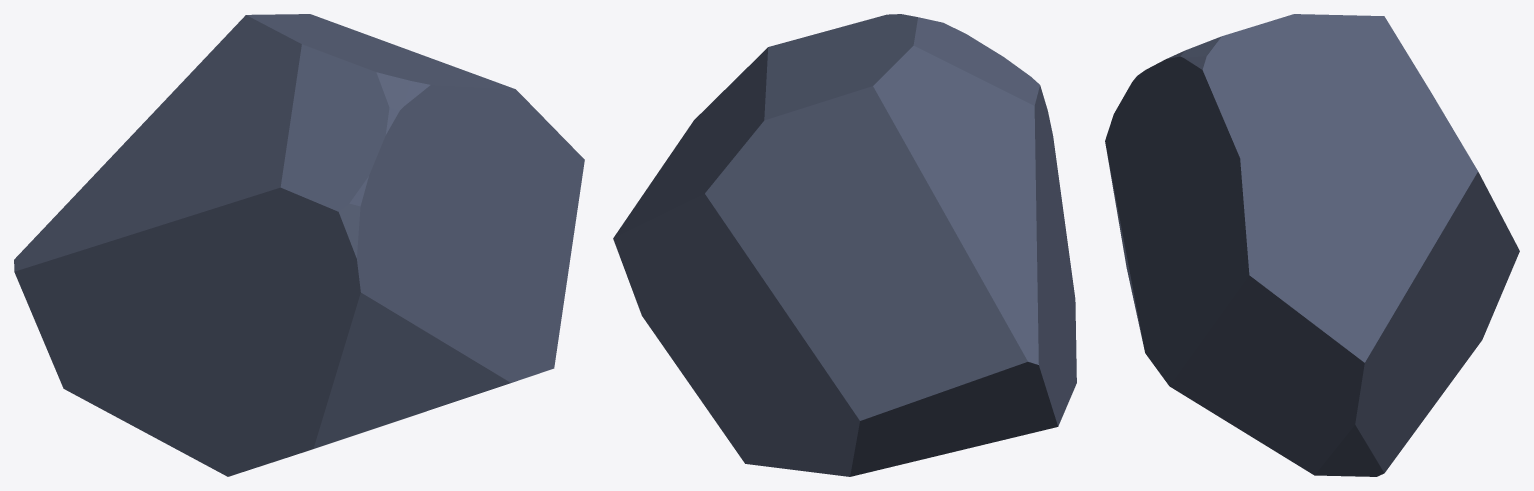
Rendered from roca.fbx.
3 renders of one model, left to right at view 1: azimuth 30°, elevation 25°; view 2: azimuth 150°, elevation 25°; view 3: azimuth 270°, elevation 25°, orthographic. The views are drawn at different scales.
Parts seen in each view (by area): view 1: rock; view 2: rock; view 3: rock.
Part boxes in pixels (<box>): rock: <box>14,14,584,476</box>; rock: <box>613,14,1076,476</box>; rock: <box>1105,14,1519,476</box>.
Bounding box in the file's own units: 160 × 138 × 128.
